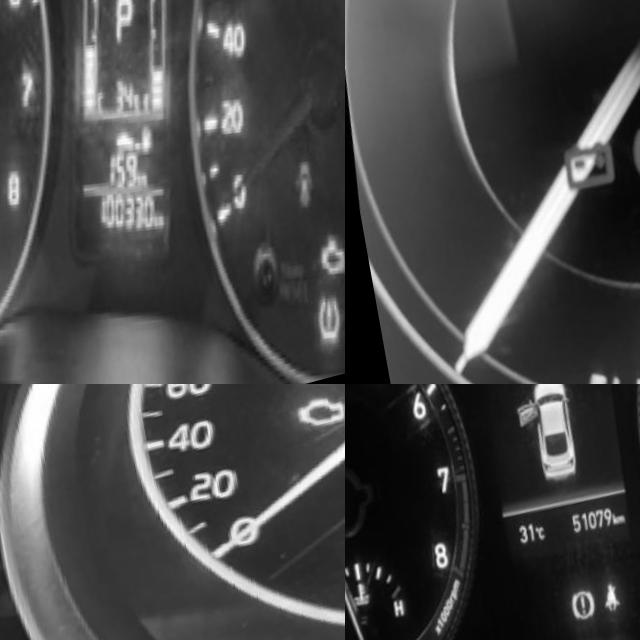Doors: (269, 176, 307, 244)
